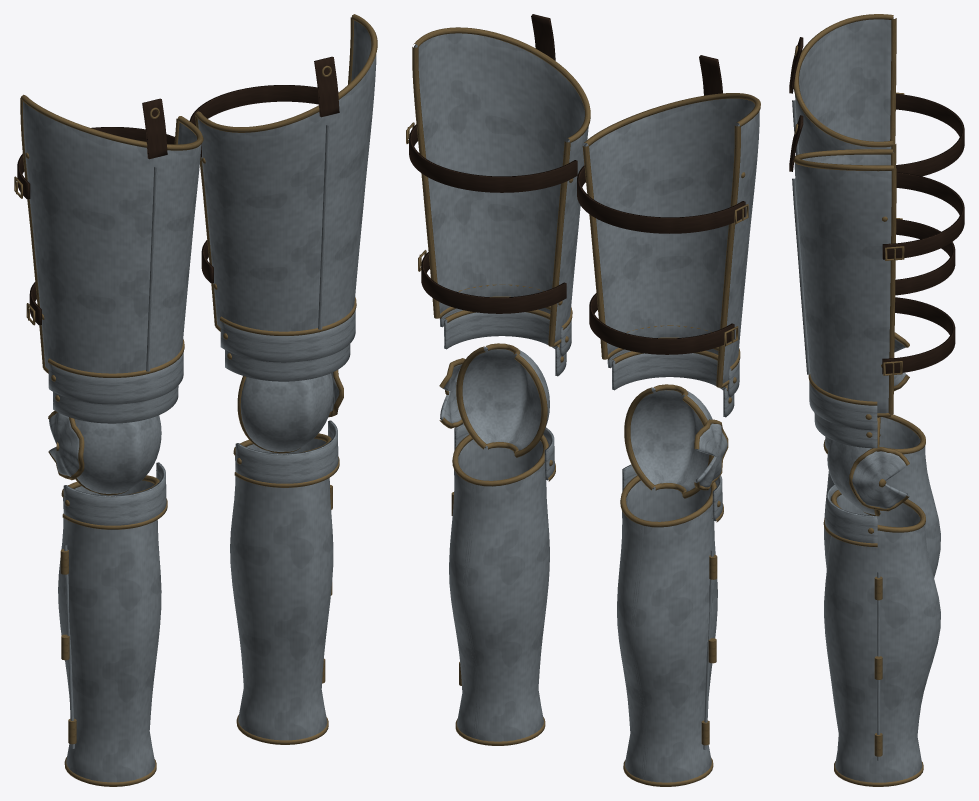
3 views of the same model, side by side, from view 1: azimuth 30°, elevation 25°; view 2: azimuth 150°, elevation 25°; view 3: azimuth 270°, elevation 25° (orthographic). The views are drawn at different scales.
Parts seen in each view (by area): view 1: hammered plate, aged alloy edge, oiled strap leather; view 2: hammered plate, aged alloy edge, oiled strap leather; view 3: hammered plate, aged alloy edge, oiled strap leather.
Boxes of the visible parts, x1,y1,x2,y2 form: hammered plate: (23, 20, 376, 782); aged alloy edge: (14, 14, 377, 786); oiled strap leather: (17, 56, 339, 325); hammered plate: (414, 33, 759, 782); aged alloy edge: (406, 27, 760, 786); oiled strap leather: (409, 14, 745, 354); hammered plate: (792, 17, 940, 782); aged alloy edge: (793, 14, 925, 786); oiled strap leather: (789, 37, 964, 374).
Size of the model in its own units: 0.4203 by 0.8142 by 0.1985.
Materials: 3 (3 with a texture image).
